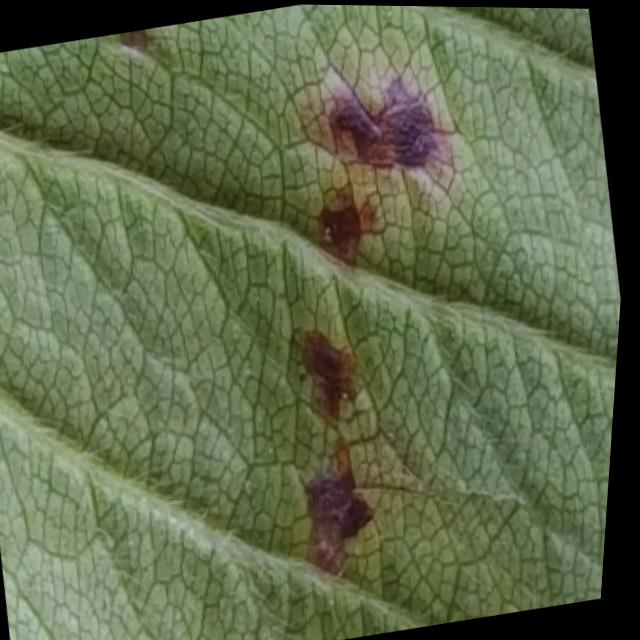Angular Leafspot: (0, 21, 490, 595)
